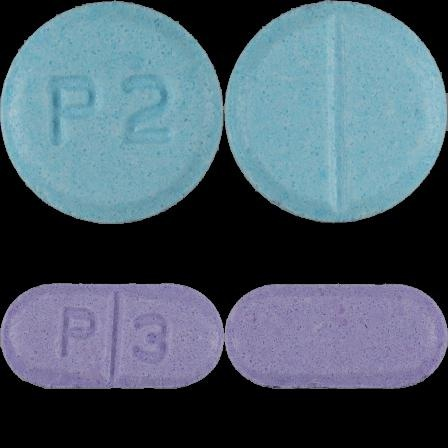68382-197: (0, 0, 224, 224)
